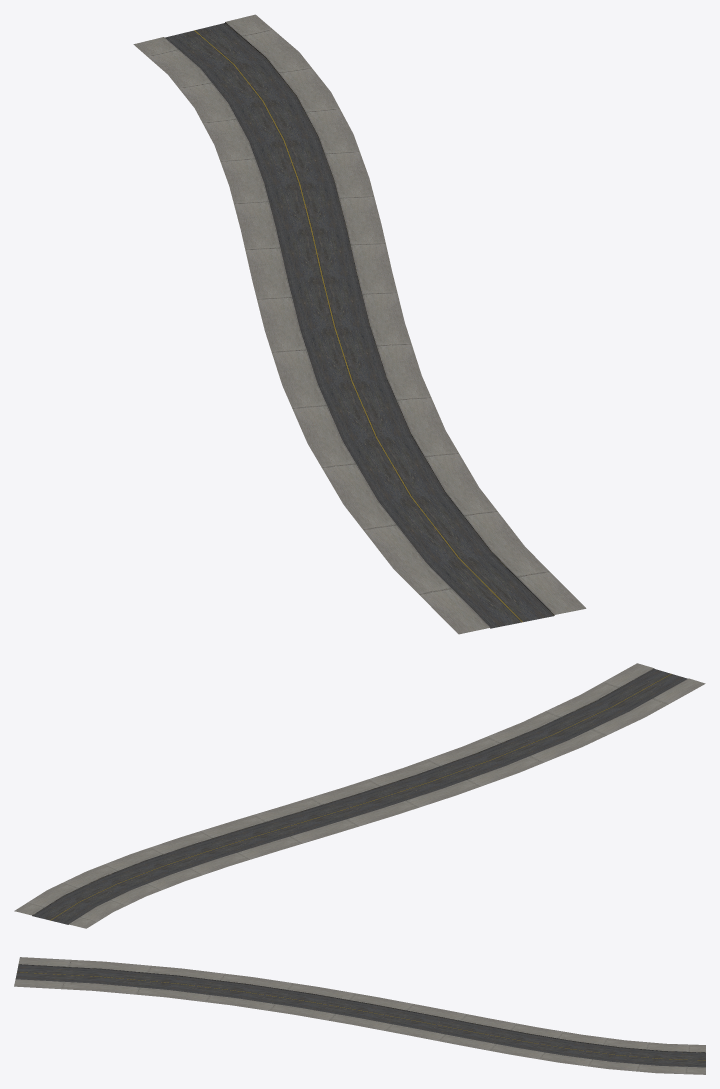
File: vegasnroad0711.obj
The picture shows the model from 3 angles, top to bottom: view 1: azimuth 30°, elevation 25°; view 2: azimuth 150°, elevation 25°; view 3: azimuth 270°, elevation 25°; orthographic projection. The views are drawn at different scales.
Parts seen in each view (by area): view 1: VegasNroad0711; view 2: VegasNroad0711; view 3: VegasNroad0711.
Part boxes in pixels (x1,y1,x2,y2): VegasNroad0711: [133, 14, 586, 634]; VegasNroad0711: [14, 663, 705, 928]; VegasNroad0711: [14, 957, 705, 1074].
Bounding box in the file's own units: 78.94 × 0.2143 × 196.
Materials: 3 (3 with a texture image).
